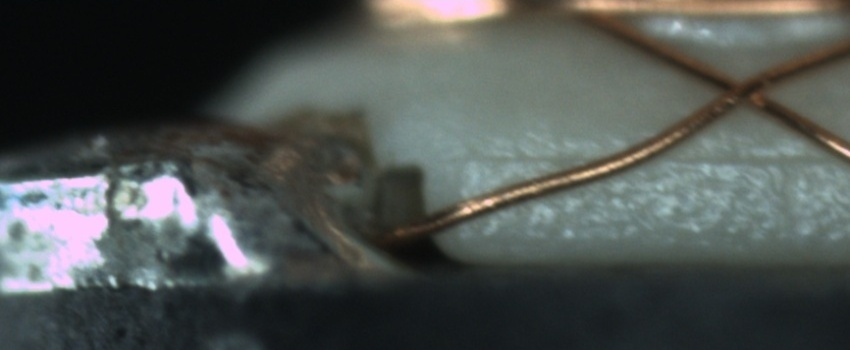CL: (700, 60, 782, 119)
DL: (447, 128, 849, 194)
